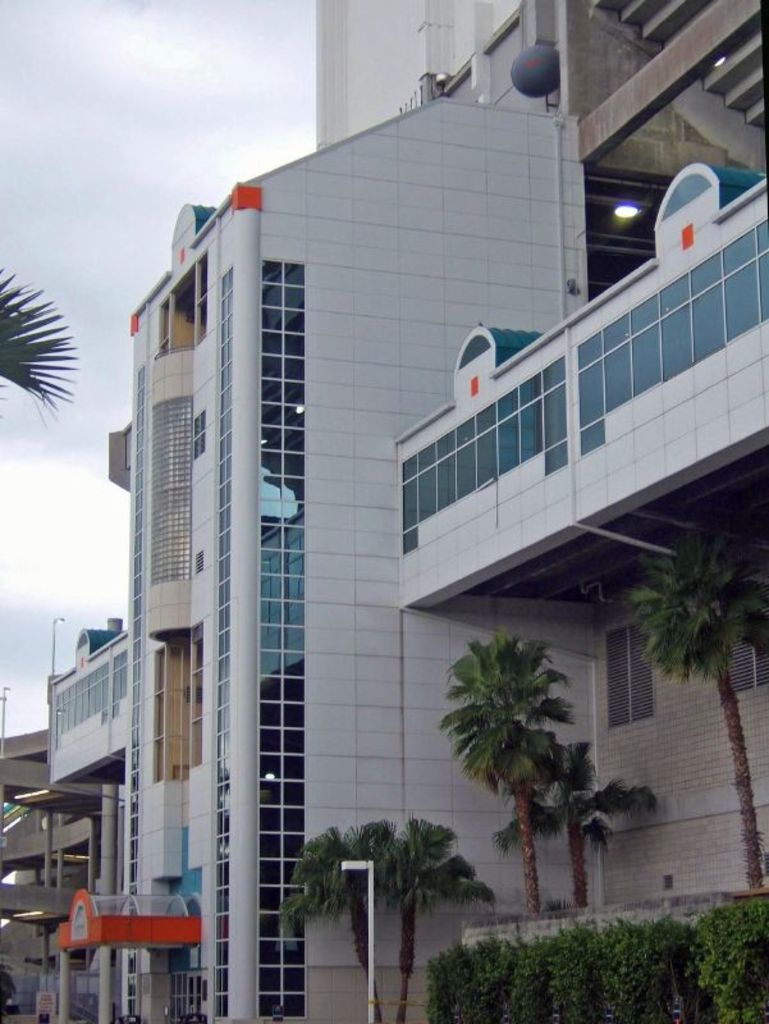Tree: (283, 812, 496, 1024)
